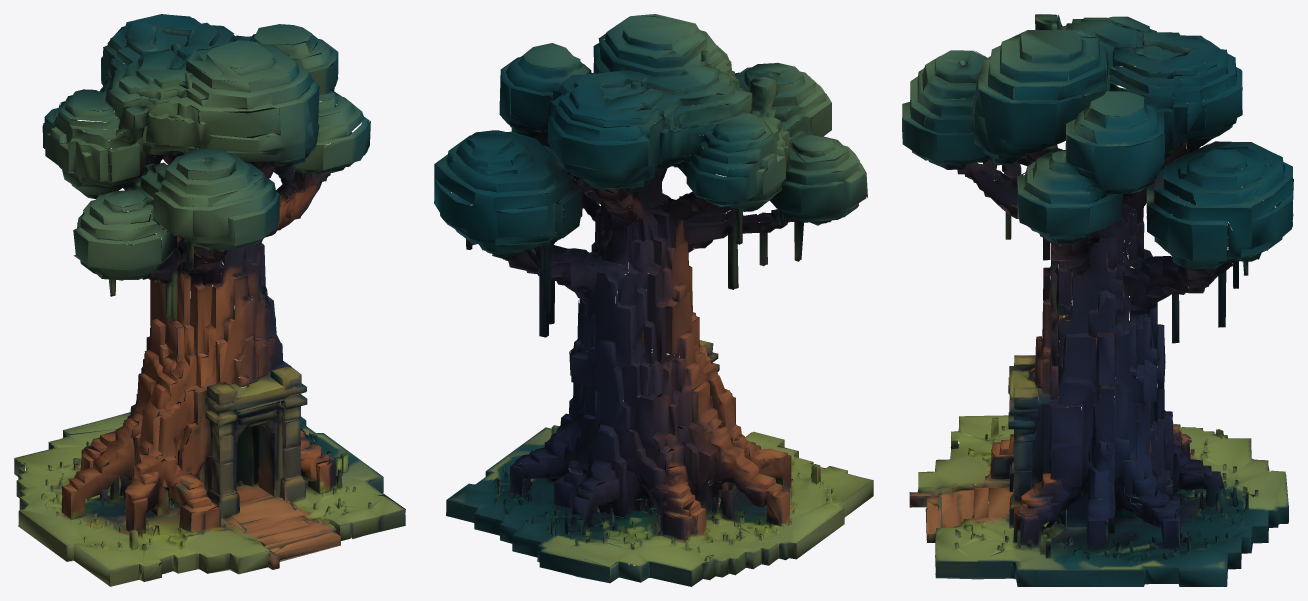
File: ancient_tree_darkgreen_2.glb
3 views of the same model, side by side, from view 1: azimuth 30°, elevation 25°; view 2: azimuth 150°, elevation 25°; view 3: azimuth 270°, elevation 25° (orthographic). The views are drawn at different scales.
Visible parts, largest first — view 1: node_0; view 2: node_0; view 3: node_0.
Part boxes in pixels (x1=…): node_0: x1=14, y1=14, x2=405, y2=586; node_0: x1=434, y1=14, x2=873, y2=586; node_0: x1=902, y1=14, x2=1293, y2=586.
Size of the model in its own units: 0.6581 by 0.913 by 0.6719.
Materials: 1 (1 with a texture image).
